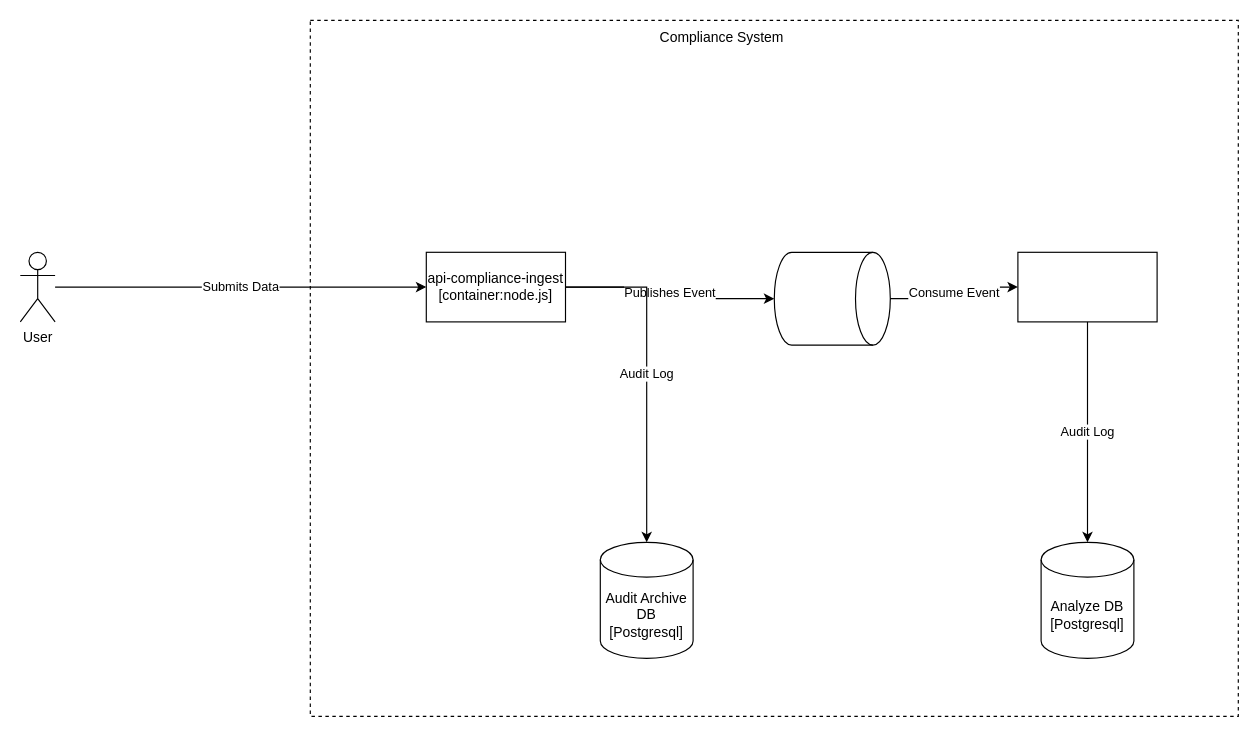
The diagram is 1259 pixels wide and 737 high, and some of its shapes have lost their labels. The centre of each missing label's shape, as x and y in pixels:
api-compliance-analyze [container:node.js]: point (1087, 286)
Compliance Event Stream [Kafka]: point (831, 298)
